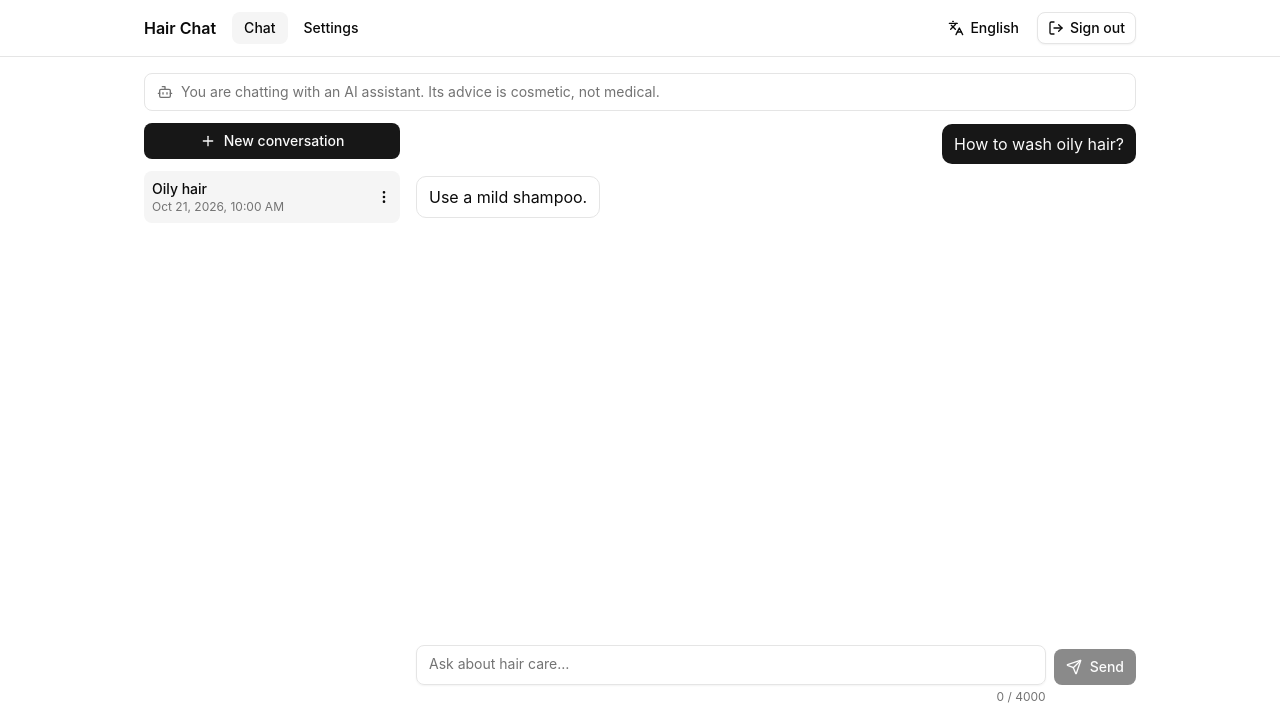
Test: sending a message › marks a truncated answer
Expected: the text "Use a mild shampoo." is shown, [429, 185, 587, 209]
In the text box named "Message": (731, 665) [416, 645, 1046, 685], type "Tell me everything"
Then press Enter
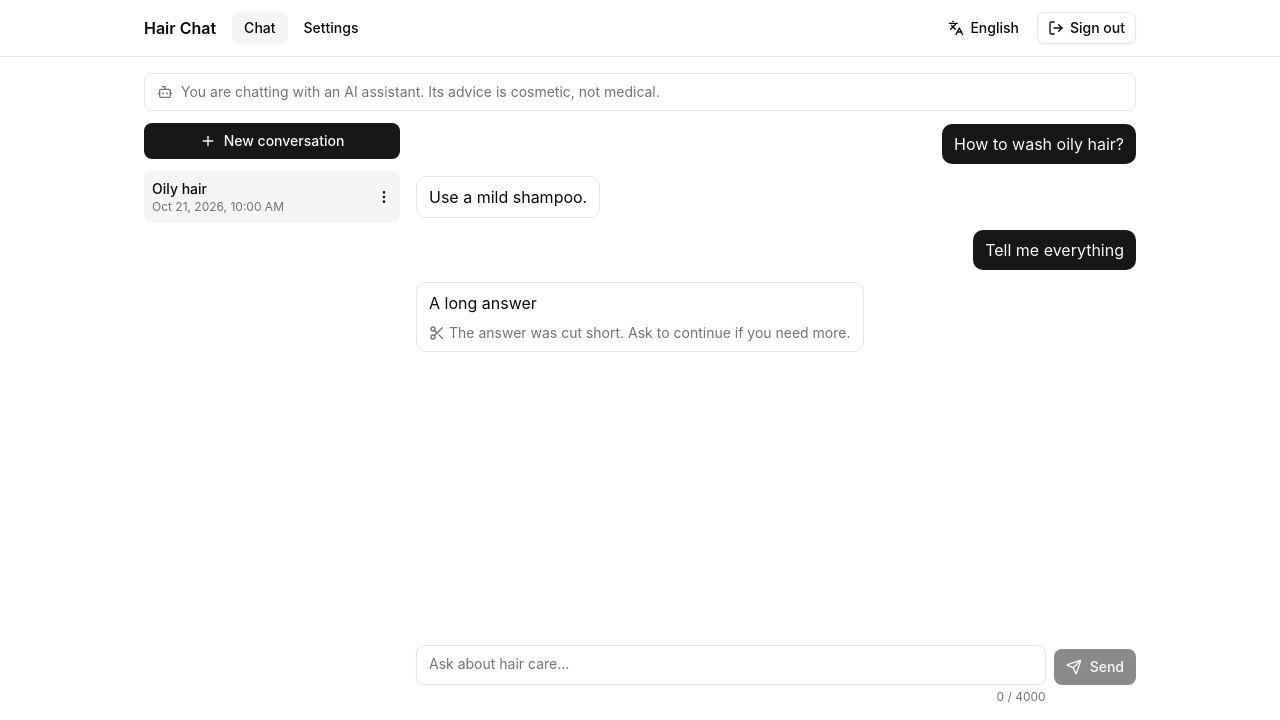
Result: the text "The answer was cut short. Ask to continue if you need more." is shown at [429, 323, 850, 343]
